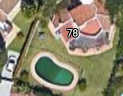pool: (39, 58, 70, 86)
